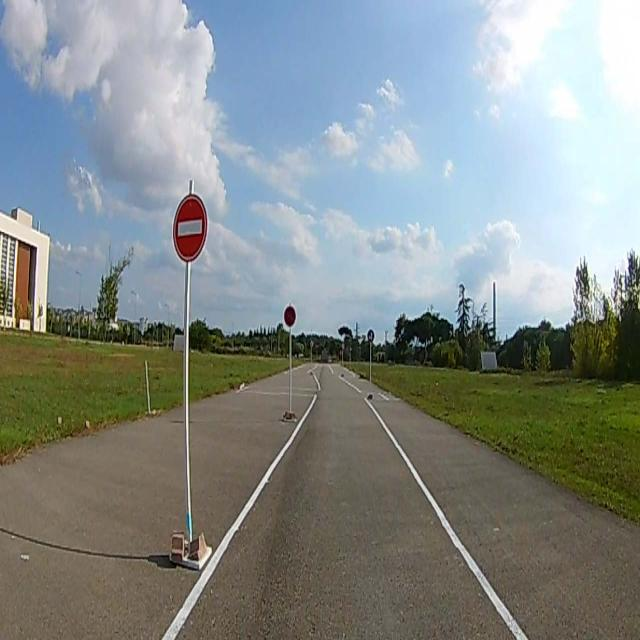girisyok: (173, 195, 207, 261)
